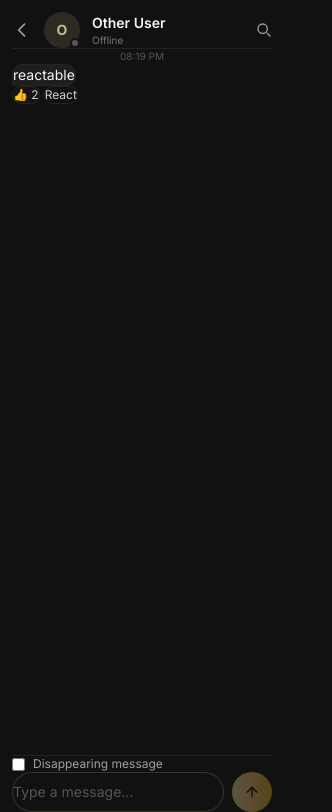
Scenario: ChatWindow › saves a selected reaction and updates the displayed counts
Expected: the text "reactable" is shown, x1=12 y1=64 x2=76 y2=86
Expected: the text "👍 2" is shown, x1=12 y1=86 x2=40 y2=104
Click the button with aria-label "Add reaction": (61, 95) x1=44 y1=86 x2=78 y2=104
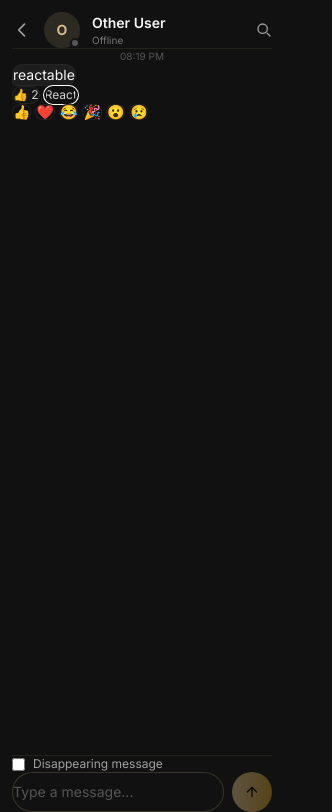
Click the button named "React with ❤️": (45, 112) x1=36 y1=104 x2=55 y2=120
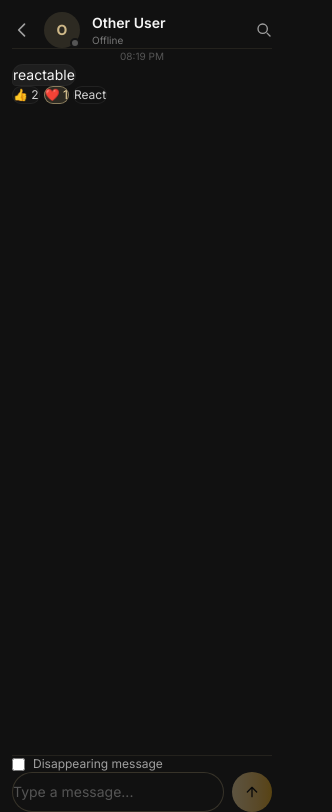
Now the text "❤️ 1" is shown, box x1=44 y1=86 x2=69 y2=104
